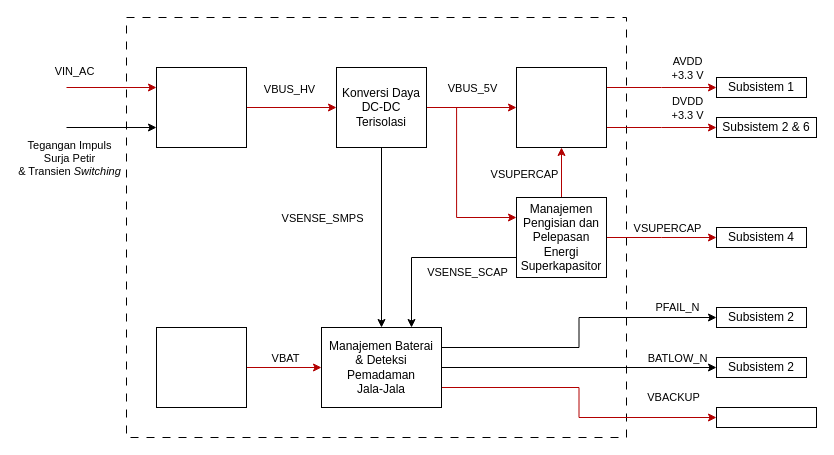
The diagram is 834 pixels wide and 455 high, and some of its shapes have lost their labels. The centre of each missing label's shape, as x and y in pixels:
Proteksi, Pemfilter EMI, & Penyearah: point (201, 107)
Regulasi Tegangan (LDO): point (561, 107)
Sel Baterai Non-Rechargeable: point (201, 367)
Subsistem 2 & 5: point (766, 417)
